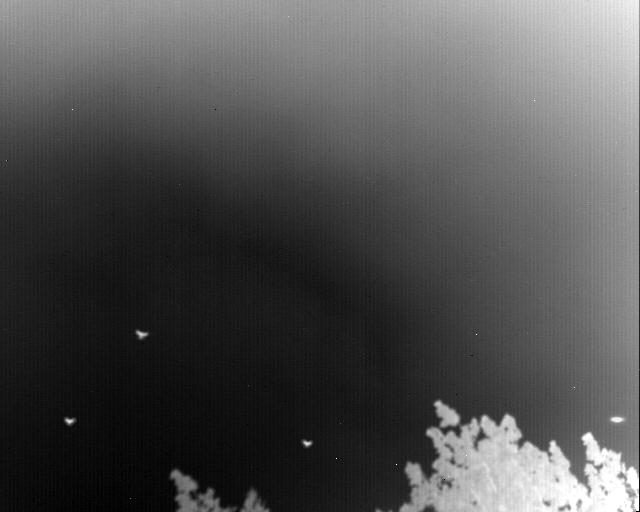plane: (135, 330, 148, 340), (302, 439, 313, 447), (65, 417, 75, 425)
